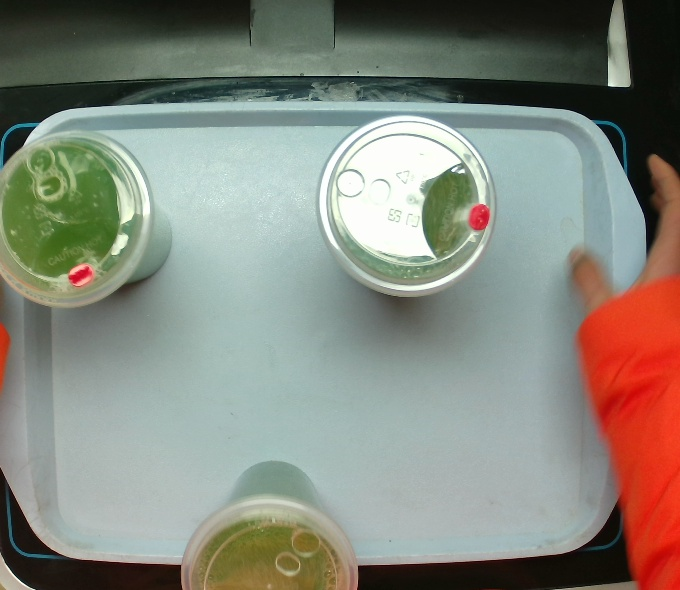wcq-HuangGuaZhi: (313, 114, 499, 300), (1, 126, 175, 311), (177, 458, 361, 590)
